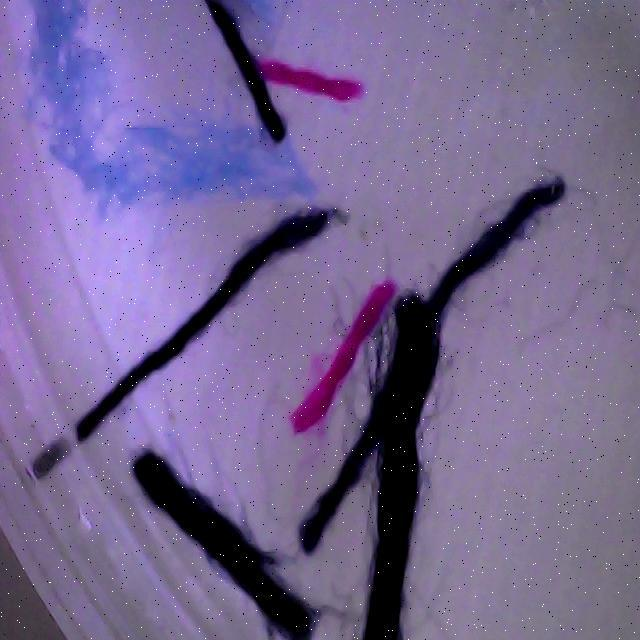fibers: (58, 187, 342, 442), (286, 271, 400, 441), (206, 0, 289, 145), (252, 54, 366, 104), (0, 1, 1, 1)
